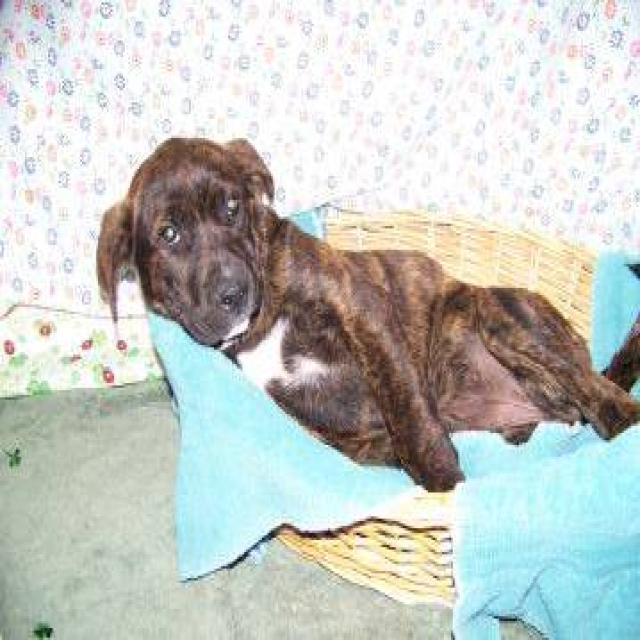dog: (95, 133, 638, 493)
